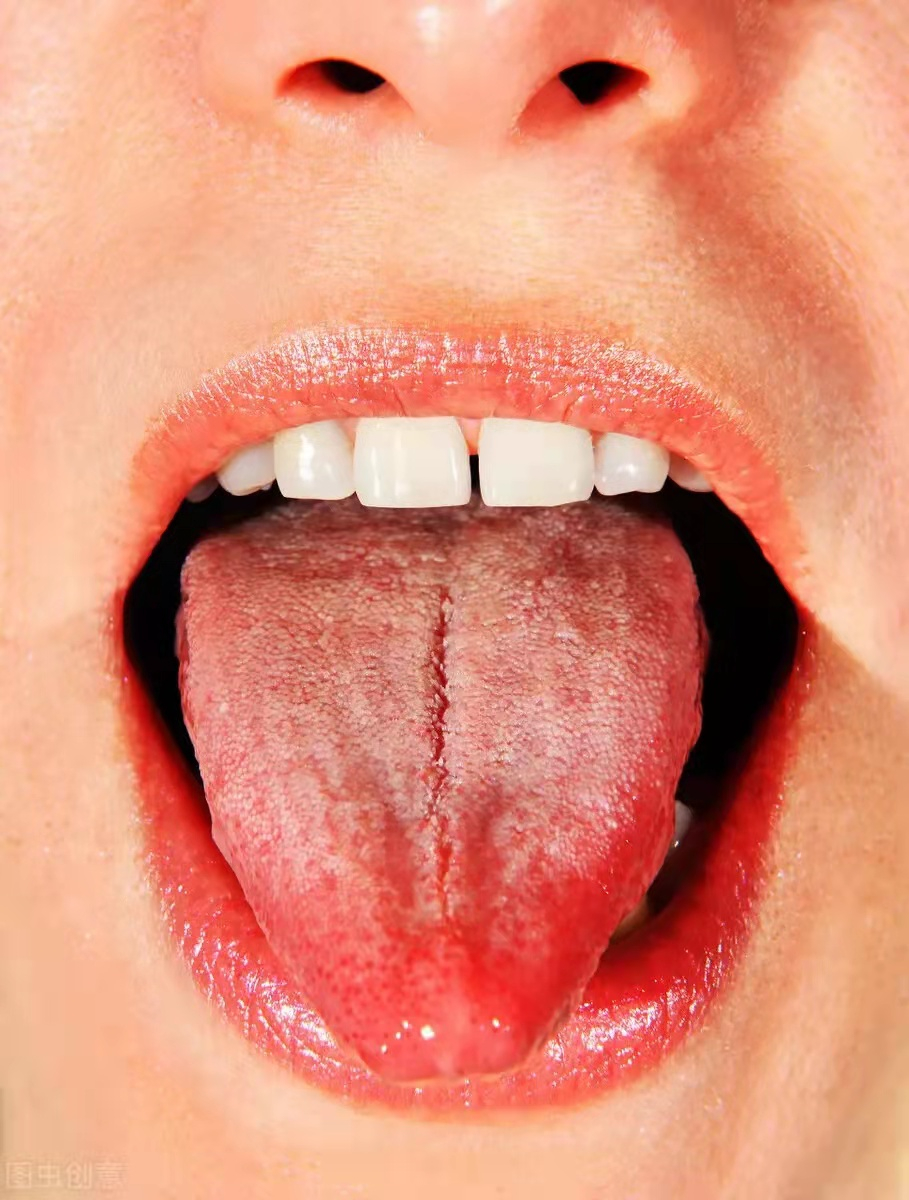baitaishe: (177, 492, 708, 1083)
hongdianshe: (336, 953, 350, 970), (350, 1029, 359, 1041)
hongshe: (176, 492, 707, 1083)
liewenshe: (423, 582, 452, 803)
